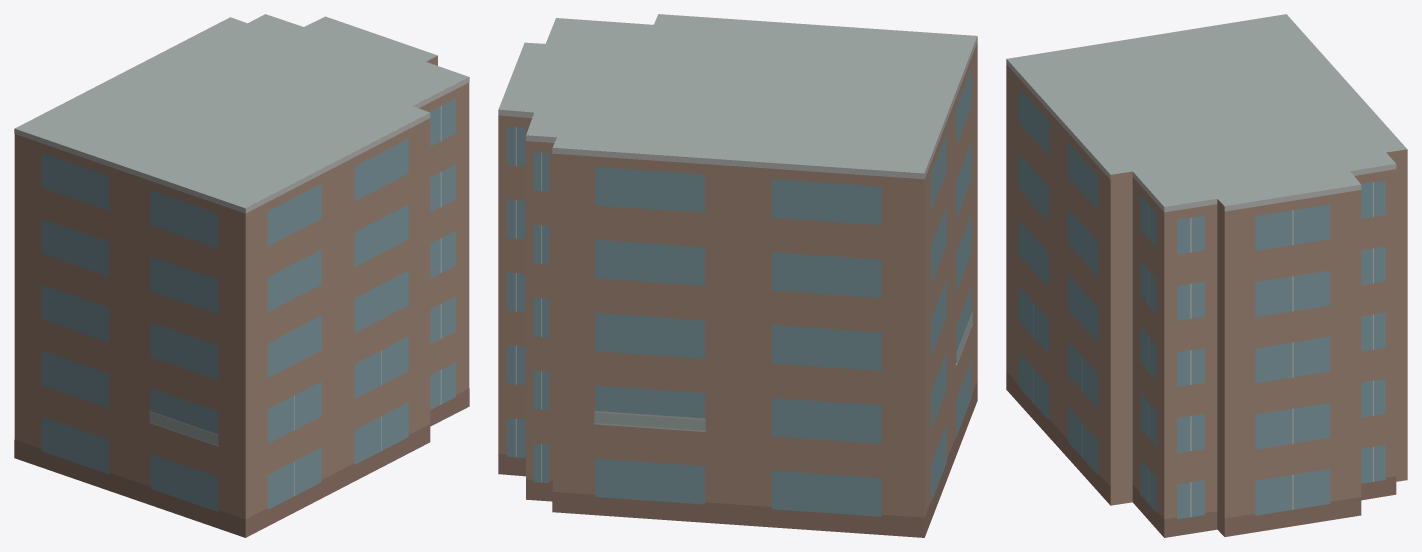
Rendered from survey-upis-32546383.glb.
3 views of the same model, side by side, from view 1: azimuth 30°, elevation 25°; view 2: azimuth 150°, elevation 25°; view 3: azimuth 270°, elevation 25° (orthographic). The views are drawn at different scales.
Visible parts, largest first — view 1: survey-upis-32546383.tmp; view 2: survey-upis-32546383.tmp; view 3: survey-upis-32546383.tmp.
Boxes of the visible parts, x1,y1,x2,y2 form: survey-upis-32546383.tmp: [14, 14, 469, 537]; survey-upis-32546383.tmp: [498, 14, 977, 537]; survey-upis-32546383.tmp: [1006, 14, 1407, 537].
Size of the model in its own units: 19.1 by 15.25 by 16.77.
